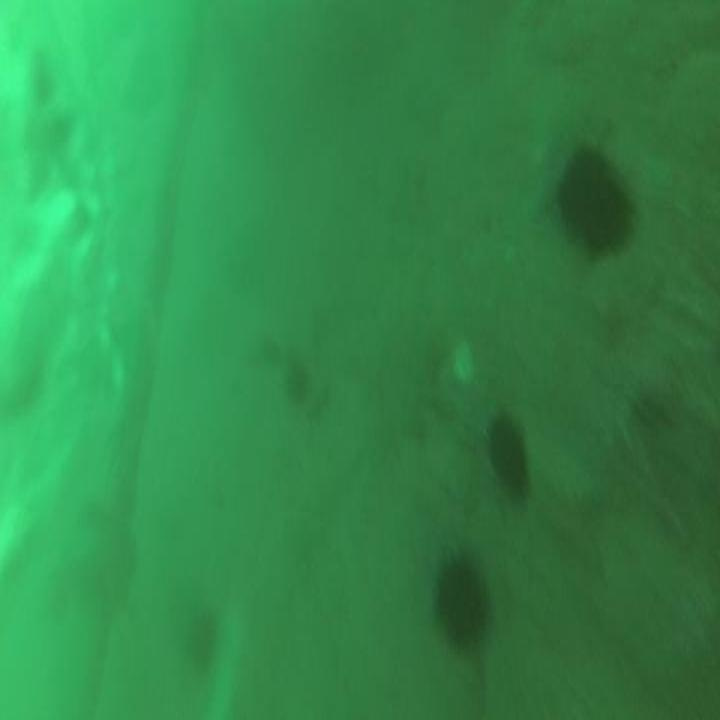echinus: (544, 121, 639, 270), (427, 534, 498, 662), (478, 396, 540, 512)
